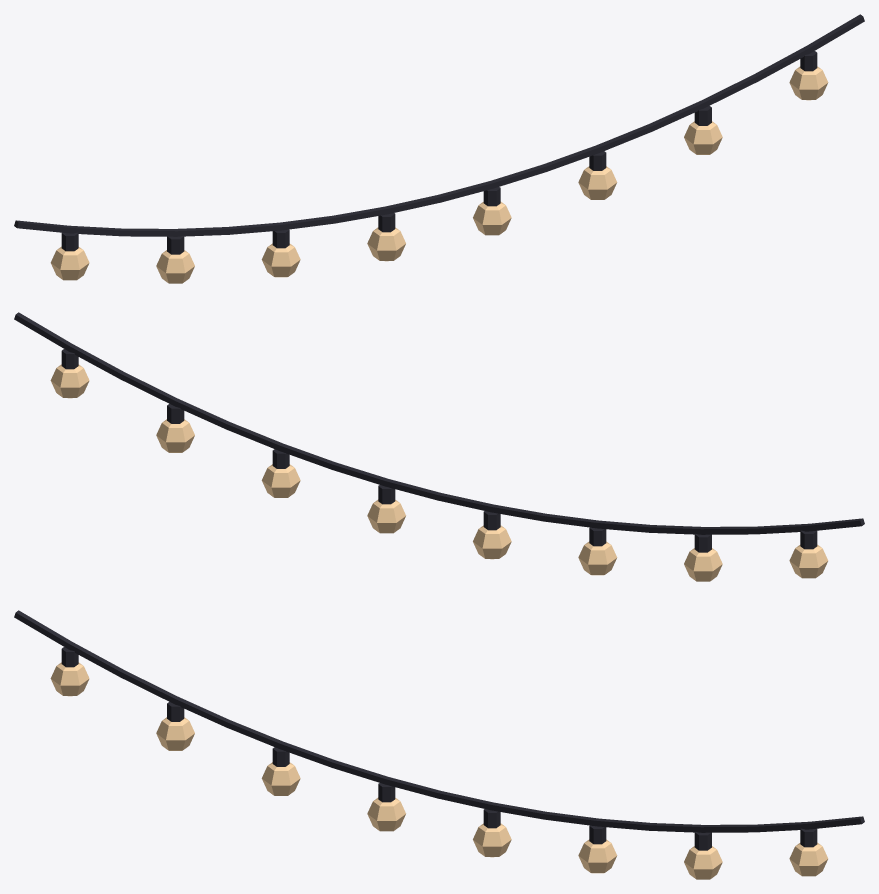
Rendered from CatCafe_Decor_StringLights.glb.
3 views of the same model, one above another, from view 1: azimuth 30°, elevation 25°; view 2: azimuth 150°, elevation 25°; view 3: azimuth 330°, elevation 25° (orthographic).
Visible parts, largest first — view 1: CatCafe_Decor_StringLights_Wire, CatCafe_Decor_StringLights_Bulbs; view 2: CatCafe_Decor_StringLights_Wire, CatCafe_Decor_StringLights_Bulbs; view 3: CatCafe_Decor_StringLights_Wire, CatCafe_Decor_StringLights_Bulbs.
Boxes of the visible parts, <box> form: CatCafe_Decor_StringLights_Wire: <box>14,14,864,254</box>; CatCafe_Decor_StringLights_Bulbs: <box>50,66,828,283</box>; CatCafe_Decor_StringLights_Wire: <box>14,312,864,552</box>; CatCafe_Decor_StringLights_Bulbs: <box>50,364,828,581</box>; CatCafe_Decor_StringLights_Wire: <box>14,610,864,850</box>; CatCafe_Decor_StringLights_Bulbs: <box>50,662,828,879</box>.
Size of the model in its own units: 8.03 by 1.18 by 0.32.
Materials: 1 (1 with a texture image).
